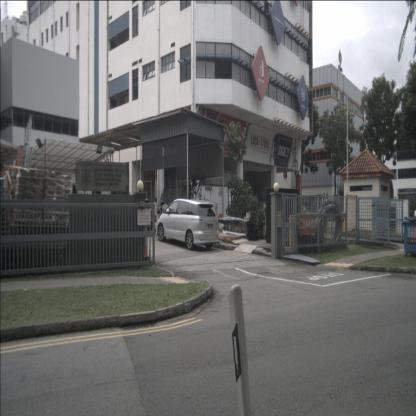human-pedestrian-adult: (160, 188, 169, 220), (152, 198, 162, 222)
movable_object-trafficcone: (142, 227, 150, 259)
vehicle-car: (156, 198, 219, 250)
